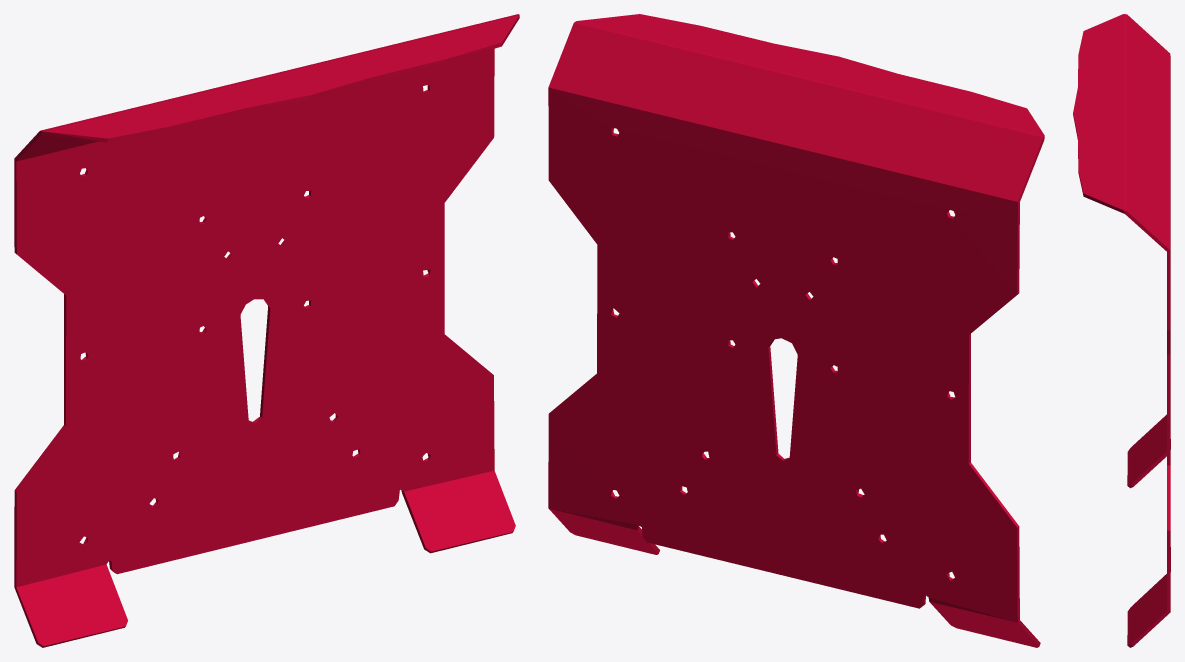
Rendered from upper.fbx.
3 renders of one model, left to right at view 1: azimuth 30°, elevation 25°; view 2: azimuth 150°, elevation 25°; view 3: azimuth 270°, elevation 25°, orthographic. The views are drawn at different scales.
Parts seen in each view (by area): view 1: Top_Cover_V1; view 2: Top_Cover_V1; view 3: Top_Cover_V1.
Part boxes in pixels (x1,y1,x2,y2): Top_Cover_V1: (14, 14, 519, 647); Top_Cover_V1: (548, 14, 1044, 647); Top_Cover_V1: (1073, 14, 1170, 647).
Size of the model in its own units: 19003 by 19752 by 3983.
